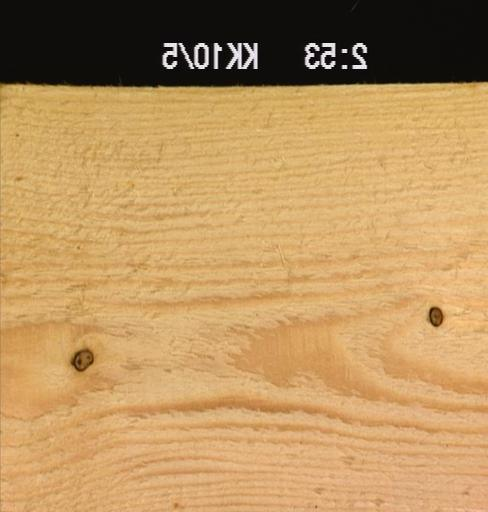dry_knot: (68, 347, 94, 372), (426, 304, 444, 328)
